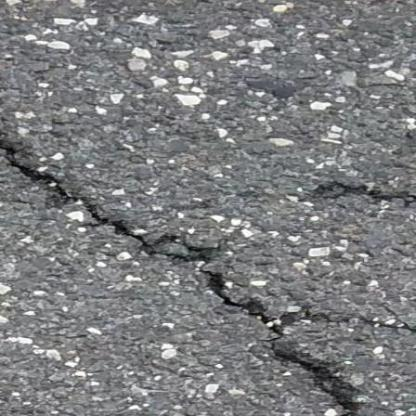Cracks: (0, 123, 416, 416)
